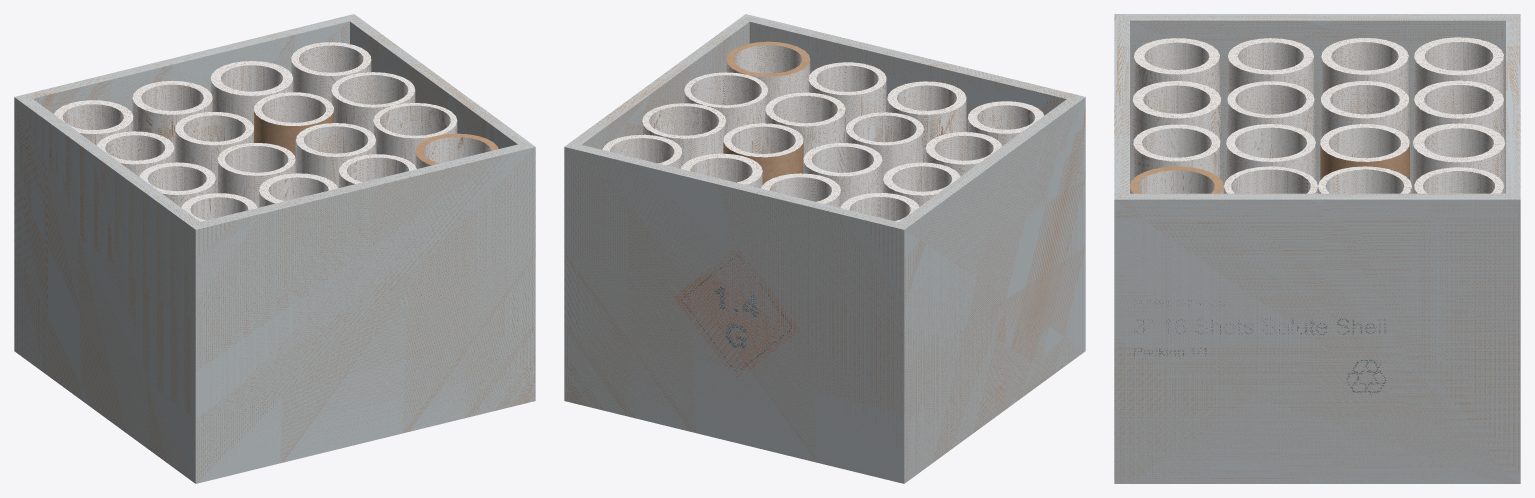
Rendered from vuurwerk.dae.
The picture shows the model from 3 angles, left to right: view 1: azimuth 30°, elevation 25°; view 2: azimuth 150°, elevation 25°; view 3: azimuth 270°, elevation 25°; orthographic projection. The views are drawn at different scales.
Visible parts, largest first — view 1: SketchUp.013, SketchUp.015, SketchUp.029, SketchUp.035, SketchUp.037, SketchUp.024, SketchUp.033, SketchUp.020, SketchUp.018, SketchUp.019, SketchUp.025, SketchUp.021 (+20 smaller); view 2: SketchUp.014, SketchUp.013, SketchUp.015, SketchUp.031, SketchUp.035, SketchUp.022, SketchUp.024, SketchUp.033, SketchUp.018, SketchUp.019, SketchUp.017, SketchUp.028 (+21 smaller); view 3: SketchUp.047, SketchUp.015, SketchUp.013, SketchUp.031, SketchUp.029, SketchUp.045, SketchUp.043, SketchUp.039, SketchUp.041, SketchUp.037, SketchUp.035, SketchUp.033 (+22 smaller).
Part boxes in pixels (x1,y1,x2,y2): SketchUp.013: (14, 14, 535, 483); SketchUp.015: (33, 21, 517, 168); SketchUp.029: (210, 61, 293, 126); SketchUp.035: (175, 112, 253, 193); SketchUp.037: (132, 80, 212, 162); SketchUp.024: (295, 123, 376, 188); SketchUp.033: (217, 143, 295, 207); SketchUp.020: (291, 42, 371, 102); SketchUp.018: (380, 105, 450, 135); SketchUp.019: (338, 75, 408, 104); SketchUp.025: (303, 126, 368, 153); SketchUp.021: (299, 45, 363, 72); SketchUp.014: (564, 147, 904, 483); SketchUp.013: (564, 14, 1085, 483); SketchUp.015: (582, 21, 1066, 165); SketchUp.031: (887, 81, 966, 162); SketchUp.035: (803, 143, 882, 205); SketchUp.022: (808, 62, 886, 142); SketchUp.024: (765, 92, 845, 156); SketchUp.033: (846, 112, 923, 192); SketchUp.018: (690, 75, 761, 105); SketchUp.019: (649, 106, 719, 135); SketchUp.017: (734, 45, 801, 73); SketchUp.028: (731, 126, 795, 153); SketchUp.047: (1114, 199, 1520, 483); SketchUp.015: (1130, 20, 1505, 193); SketchUp.013: (1114, 14, 1520, 199); SketchUp.031: (1132, 81, 1221, 179); SketchUp.029: (1413, 123, 1505, 193); SketchUp.045: (1414, 37, 1503, 98); SketchUp.043: (1321, 38, 1408, 96); SketchUp.039: (1134, 38, 1219, 94); SketchUp.041: (1228, 38, 1313, 96); SketchUp.037: (1414, 80, 1503, 138); SketchUp.035: (1321, 81, 1409, 139); SketchUp.033: (1227, 81, 1314, 138).
Size of the model in its own units: 1.12 by 1.03 by 0.7969.
Materials: 5 (3 with a texture image).
